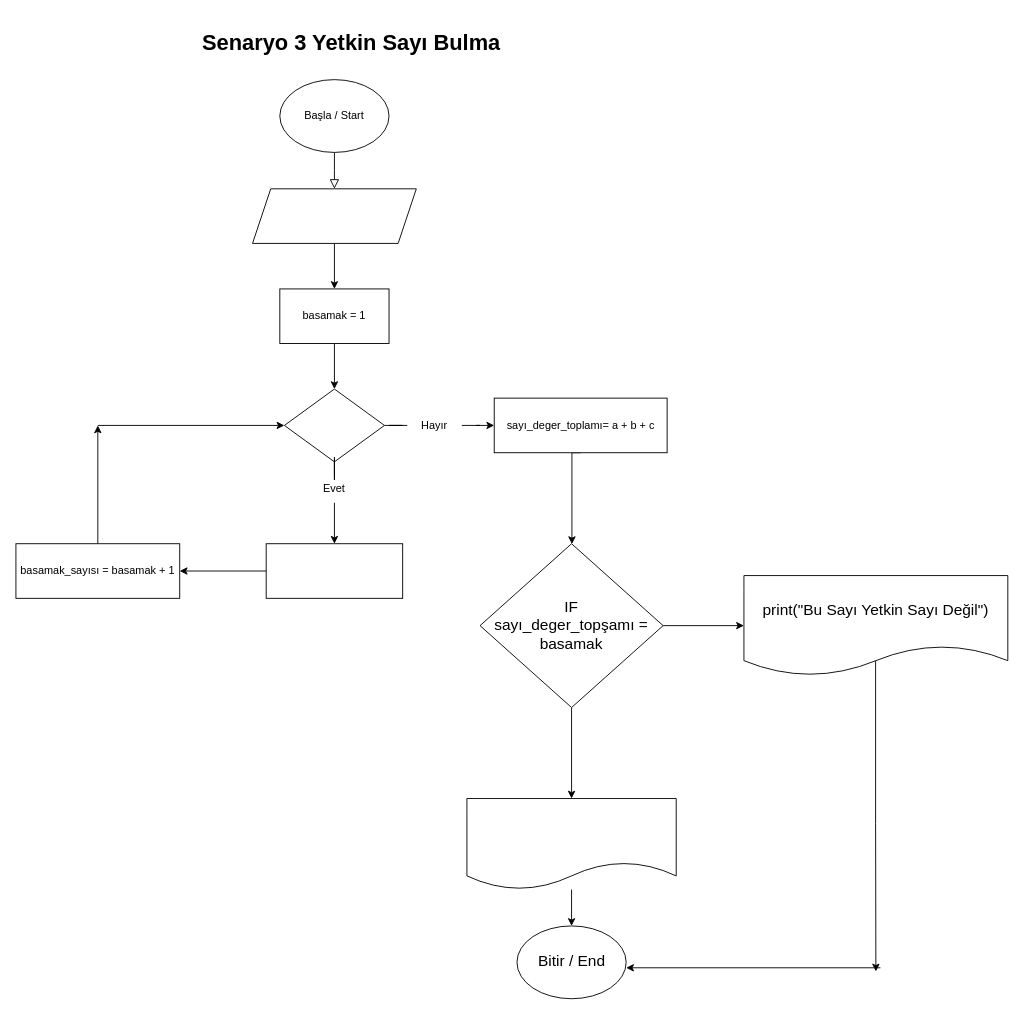
Image size: 1024x1015. Some labels were removed from this diagram. The shapes that lost their labels are listed below. From the top down, each one's centre as x and y in pixels, then its label:
(334,215): Input "Bir sayı giriniz" ( Sıfırdan farklı) abc
(333,425): IF abc/10
(334,570): bolunen_abc = abc/10
(571,844): Bu Sayı Bir Yetkin Sayı print(abc,"Yetkin Bir Sayı)
